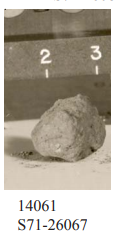Breccia: (15, 76, 101, 153)
